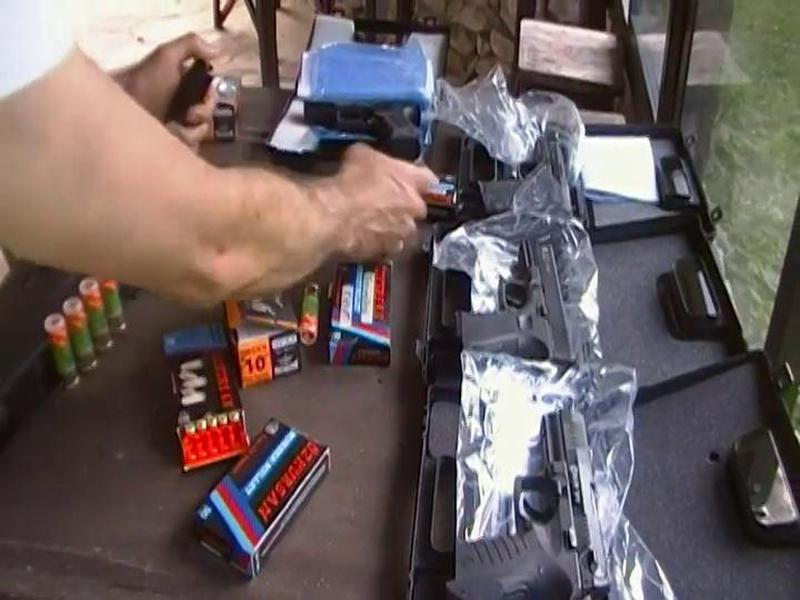Pistola: (442, 398, 628, 600), (445, 228, 588, 373)
